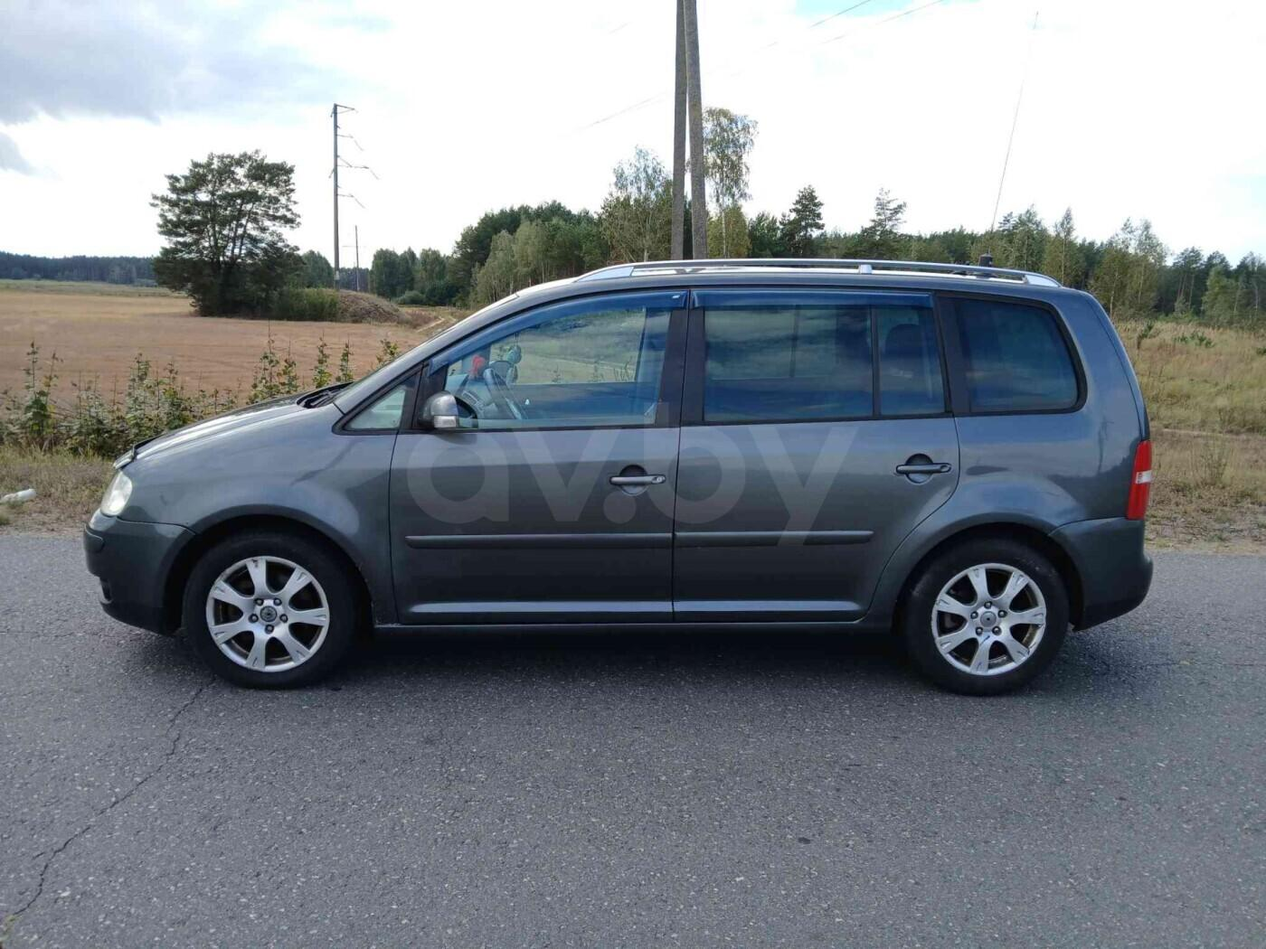Touran_2003-2006: (79, 250, 1164, 699)
